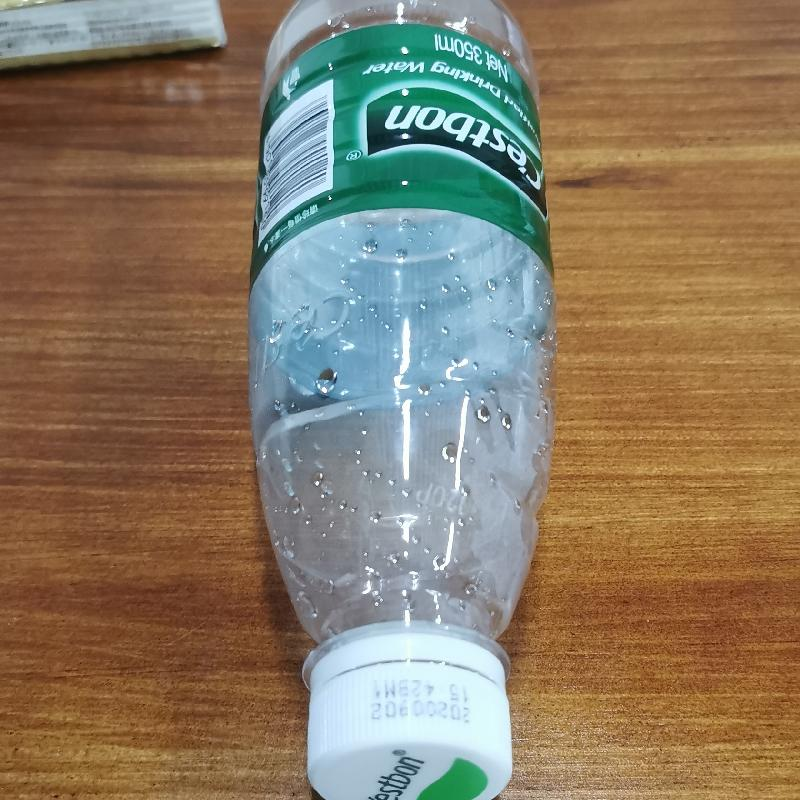bottles: (245, 8, 554, 799)
